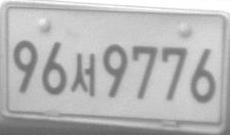6: (189, 48, 216, 103), (40, 41, 67, 95)
7: (132, 45, 158, 100), (161, 46, 187, 100)
9: (102, 42, 127, 98), (12, 39, 37, 92)
서: (71, 53, 96, 96)
